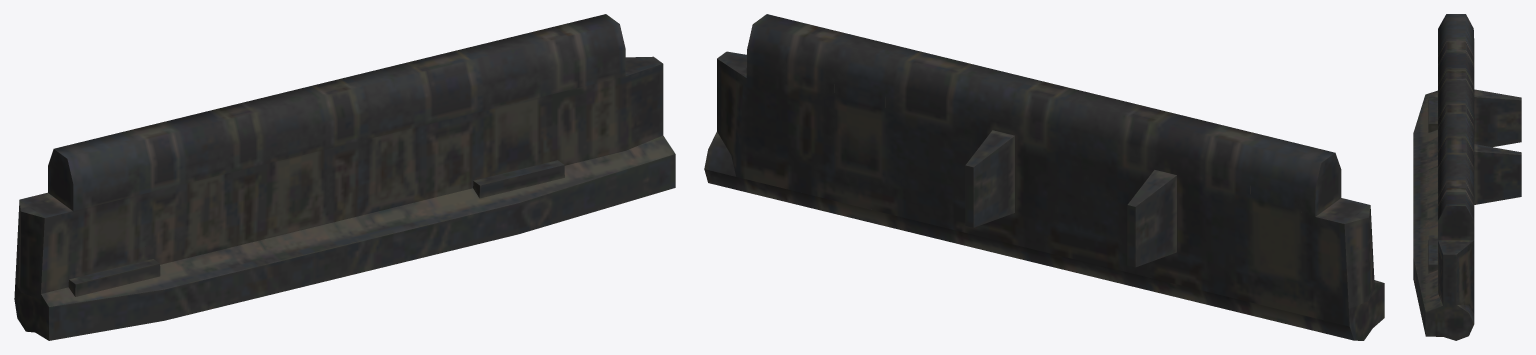
The picture shows the model from 3 angles, left to right: view 1: azimuth 30°, elevation 25°; view 2: azimuth 150°, elevation 25°; view 3: azimuth 270°, elevation 25°; orthographic projection. The views are drawn at different scales.
Parts seen in each view (by area): view 1: set_0_group_0; view 2: set_0_group_0; view 3: set_0_group_0.
Boxes of the visible parts, x1,y1,x2,y2 form: set_0_group_0: (14, 14, 675, 340); set_0_group_0: (704, 14, 1384, 340); set_0_group_0: (1413, 14, 1521, 340).
Size of the model in its own units: 0.8 by 0.2045 by 0.1665.
1 material, 1 textured.
